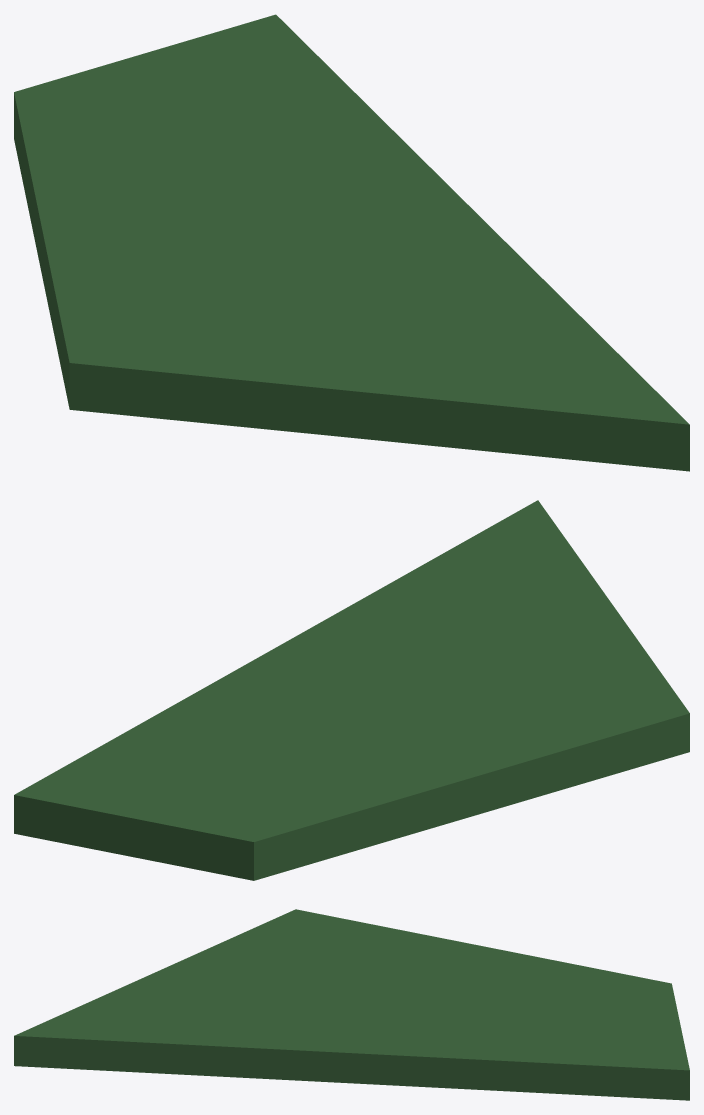
Rendered from x_proval_00_149_1_rmstrd.fbx.
3 views of the same model, one above another, from view 1: azimuth 30°, elevation 25°; view 2: azimuth 150°, elevation 25°; view 3: azimuth 270°, elevation 25° (orthographic). The views are drawn at different scales.
Parts seen in each view (by area): view 1: x_proval_00_149_1_rmstrd1; view 2: x_proval_00_149_1_rmstrd1; view 3: x_proval_00_149_1_rmstrd1.
Boxes of the visible parts, x1,y1,x2,y2 form: x_proval_00_149_1_rmstrd1: (14,14,689,471); x_proval_00_149_1_rmstrd1: (14,500,689,880); x_proval_00_149_1_rmstrd1: (14,909,689,1100).
Bounding box in the file's own units: 2.29 × 0.2 × 4.05.
